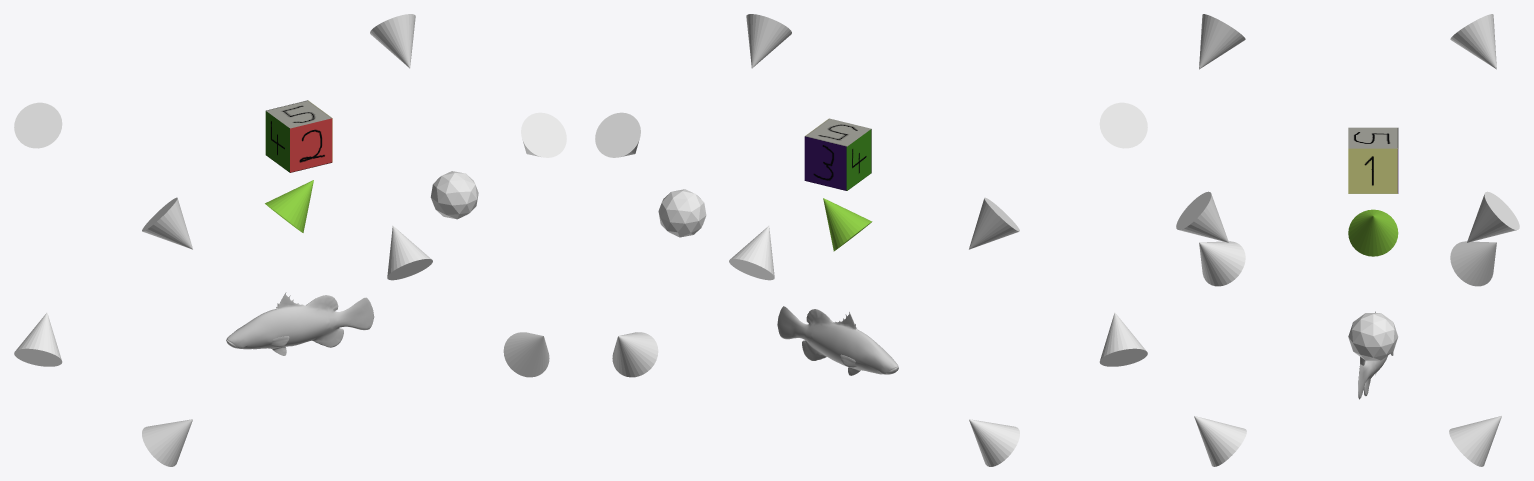
File: multipleObjects.gltf
The picture shows the model from 3 angles, left to right: view 1: azimuth 30°, elevation 25°; view 2: azimuth 150°, elevation 25°; view 3: azimuth 270°, elevation 25°; orthographic projection. The views are drawn at different scales.
Parts seen in each view (by area): view 1: BarramundiFish, Cube, Icosphere, Cone9, Cone1, Cone3, Cone5, Cone7, Cone2, Cone4, Cone8, Cone0; view 2: BarramundiFish, Cube, Icosphere, Cone8, Cone2, Cone4, Cone7, Cone5, Cone1, Cone3, Cone9, Cone0; view 3: Cube, Cone0, Icosphere, Cone7, Cone5, Cone4, Cone3, Cone1, Cone2, Cone9, Cone8, BarramundiFish.
Part boxes in pixels (x1,y1,x2,y2): BarramundiFish: (226, 292, 374, 355); Cube: (265, 100, 332, 172); Icosphere: (430, 171, 478, 219); Cone9: (14, 102, 62, 148); Cone1: (503, 332, 549, 377); Cone3: (521, 112, 566, 157); Cone5: (142, 419, 192, 466); Cone7: (14, 312, 62, 366); Cone2: (387, 225, 432, 280); Cone4: (370, 14, 415, 68); Cone8: (142, 197, 192, 249); Cone0: (265, 180, 313, 232); BarramundiFish: (777, 306, 898, 375); Cube: (804, 118, 871, 190); Icosphere: (658, 189, 706, 237); Cone8: (1099, 102, 1147, 148); Cone2: (612, 332, 658, 377); Cone4: (595, 112, 640, 157); Cone7: (969, 419, 1019, 466); Cone5: (1099, 312, 1147, 366); Cone1: (729, 225, 774, 280); Cone3: (746, 14, 791, 68); Cone9: (969, 197, 1019, 249); Cone0: (823, 198, 872, 251); Cube: (1348, 127, 1398, 193); Cone0: (1348, 209, 1398, 256); Icosphere: (1348, 313, 1398, 360); Cone7: (1450, 241, 1496, 286); Cone5: (1199, 241, 1245, 286); Cone4: (1467, 191, 1519, 242); Cone3: (1176, 191, 1228, 242); Cone1: (1194, 416, 1246, 466); Cone2: (1449, 416, 1501, 466); Cone9: (1450, 14, 1496, 69); Cone8: (1199, 14, 1245, 69); BarramundiFish: (1358, 311, 1393, 399).
Bounding box in the file's own units: 1.93 × 1.19 × 1.37.
